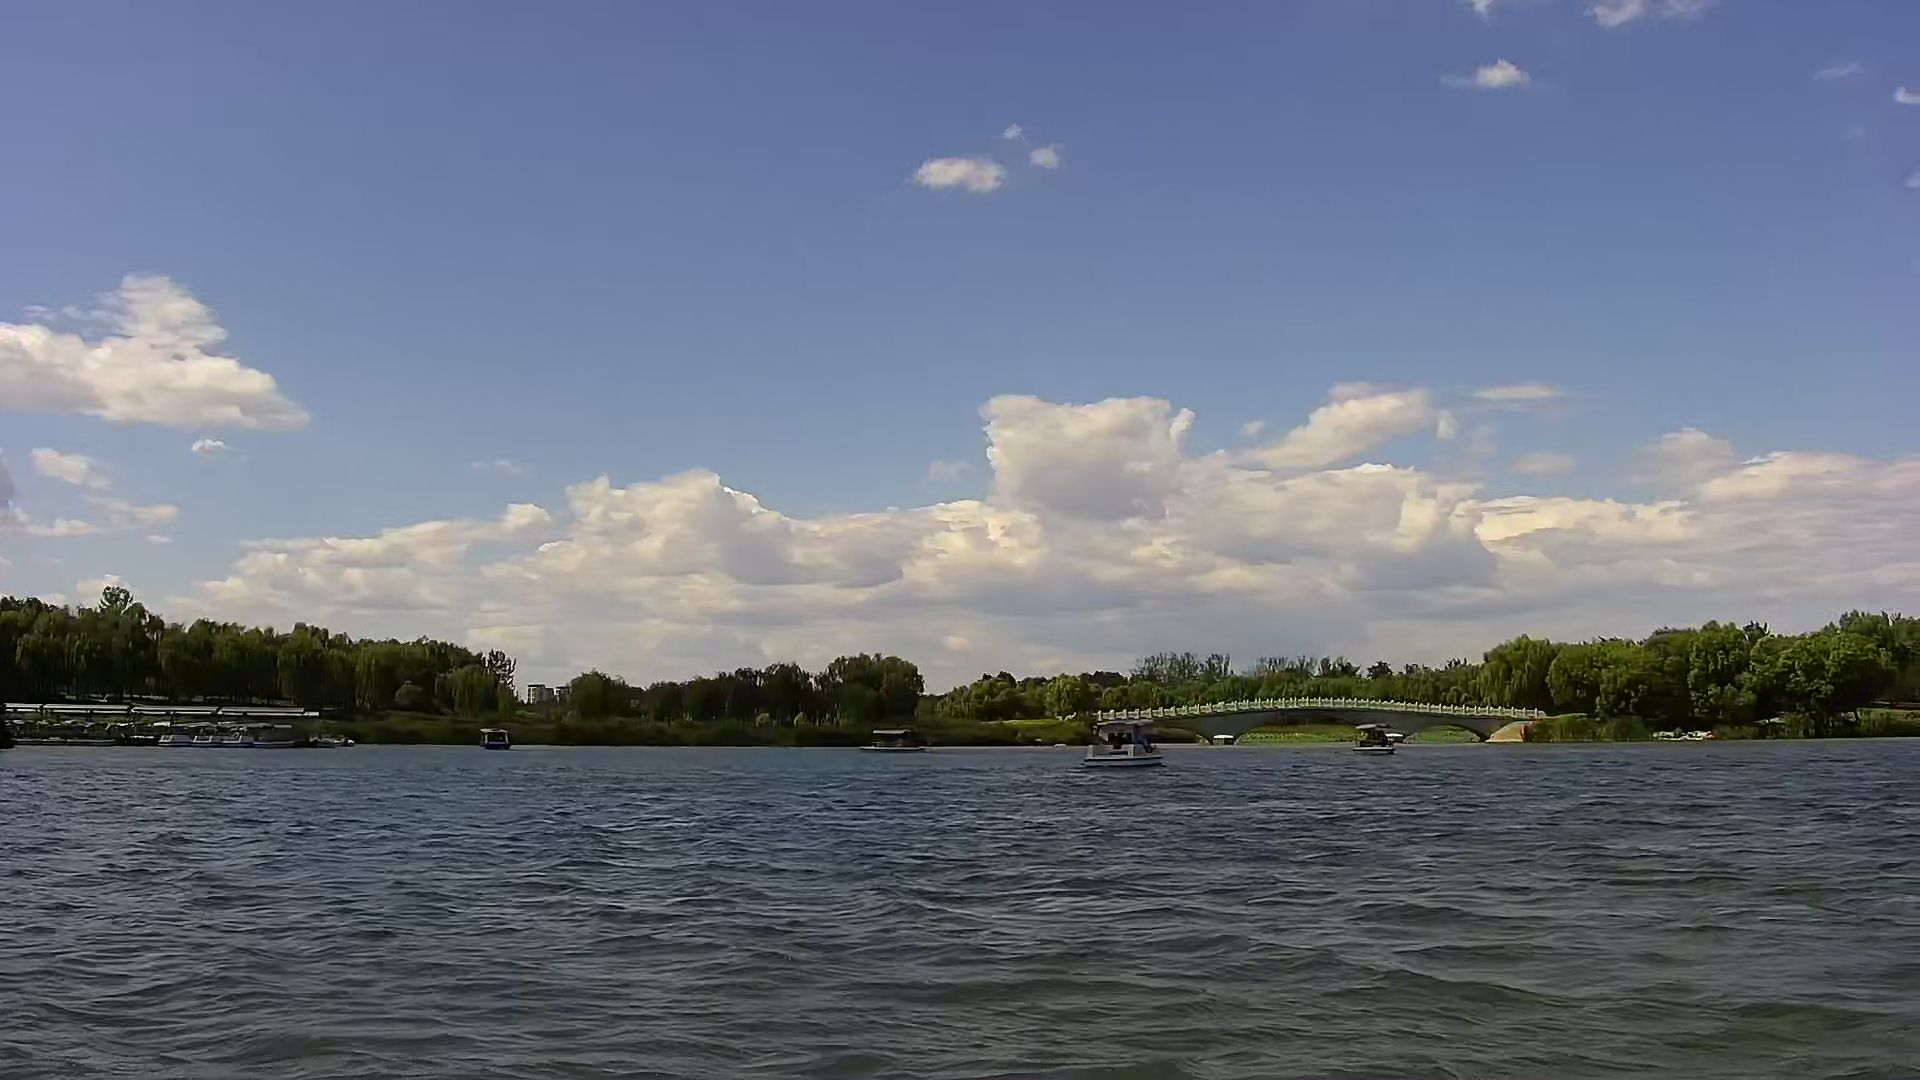boat: (1073, 723, 1179, 778), (1341, 713, 1411, 764), (858, 721, 928, 756), (473, 720, 525, 748)
bridge: (1044, 690, 1551, 746)
